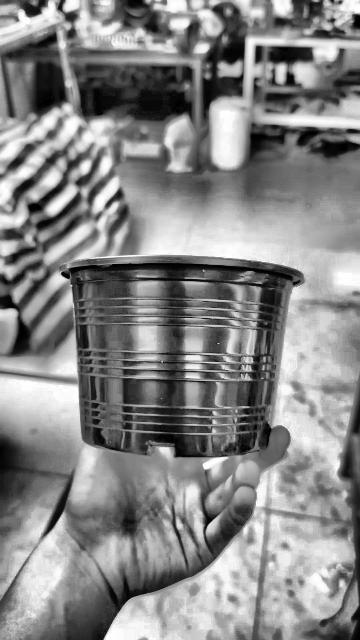pot: (61, 255, 303, 457)
